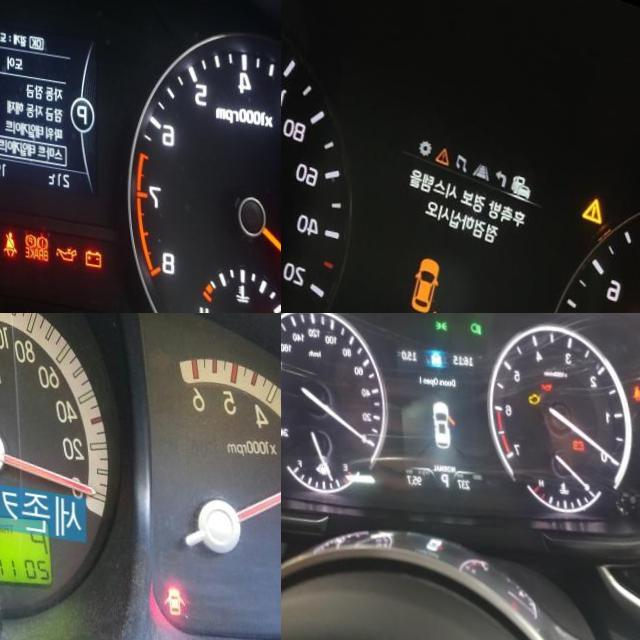Central Warning lamp: (582, 177, 607, 210)
Doors: (165, 571, 185, 601)
Low beam: (471, 313, 482, 325)
SideLamp: (435, 313, 448, 322)
